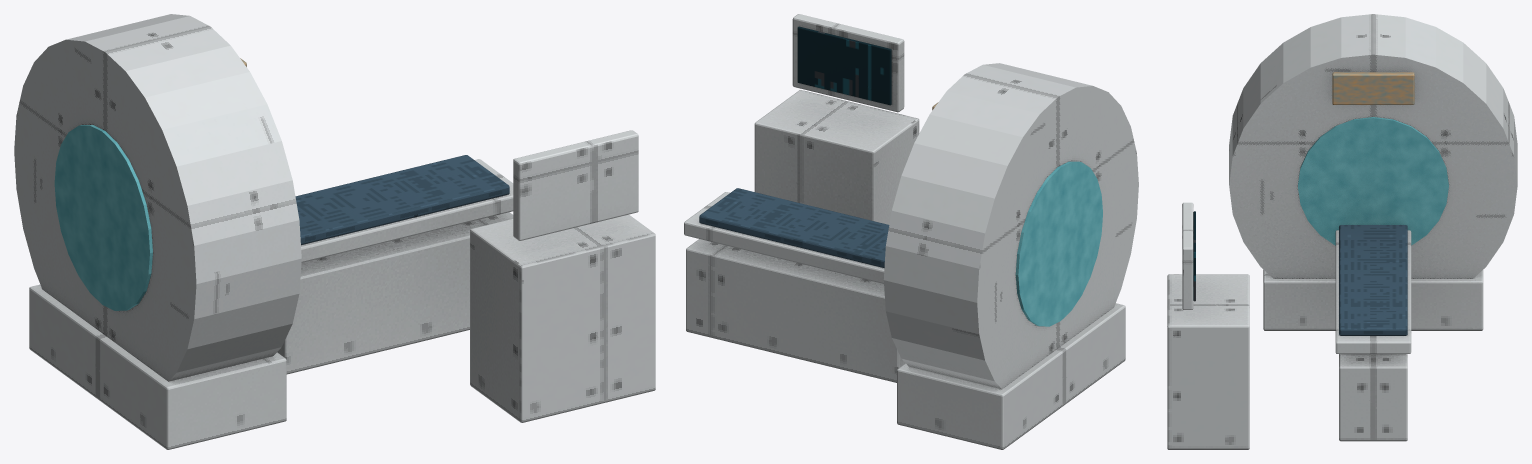
File: base_originium_scanner.glb
3 views of the same model, side by side, from view 1: azimuth 30°, elevation 25°; view 2: azimuth 150°, elevation 25°; view 3: azimuth 270°, elevation 25° (orthographic). The views are drawn at different scales.
Parts seen in each view (by area): view 1: base_originium_scanner; view 2: base_originium_scanner; view 3: base_originium_scanner.
Boxes of the visible parts, x1,y1,x2,y2 form: base_originium_scanner: [14, 14, 655, 449]; base_originium_scanner: [684, 14, 1138, 449]; base_originium_scanner: [1167, 14, 1517, 449].
Bounding box in the file's own units: 2.85 × 2.2 × 2.55.
5 materials, 5 textured.
